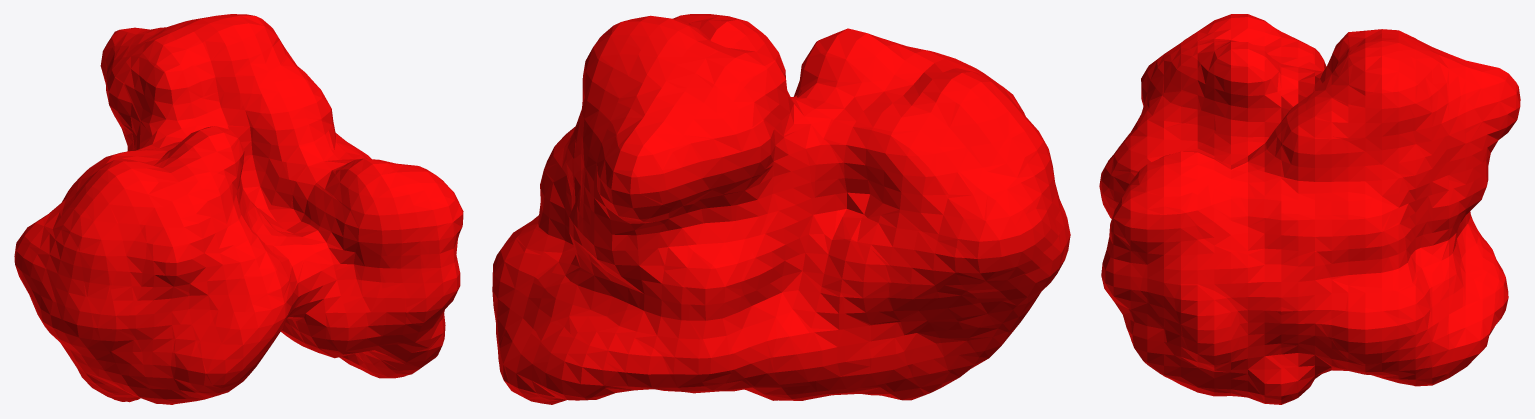
File: gor_coarse.dae
3 renders of one model, left to right at view 1: azimuth 30°, elevation 25°; view 2: azimuth 150°, elevation 25°; view 3: azimuth 270°, elevation 25°, orthographic. The views are drawn at different scales.
Visible parts, largest first — view 1: gor; view 2: gor; view 3: gor.
Boxes of the visible parts, box(x1,y1,x2,y2) form: gor: box(14, 14, 463, 404); gor: box(492, 14, 1070, 404); gor: box(1099, 14, 1520, 404).
Size of the model in its own units: 69.99 by 54.2 by 65.72.
